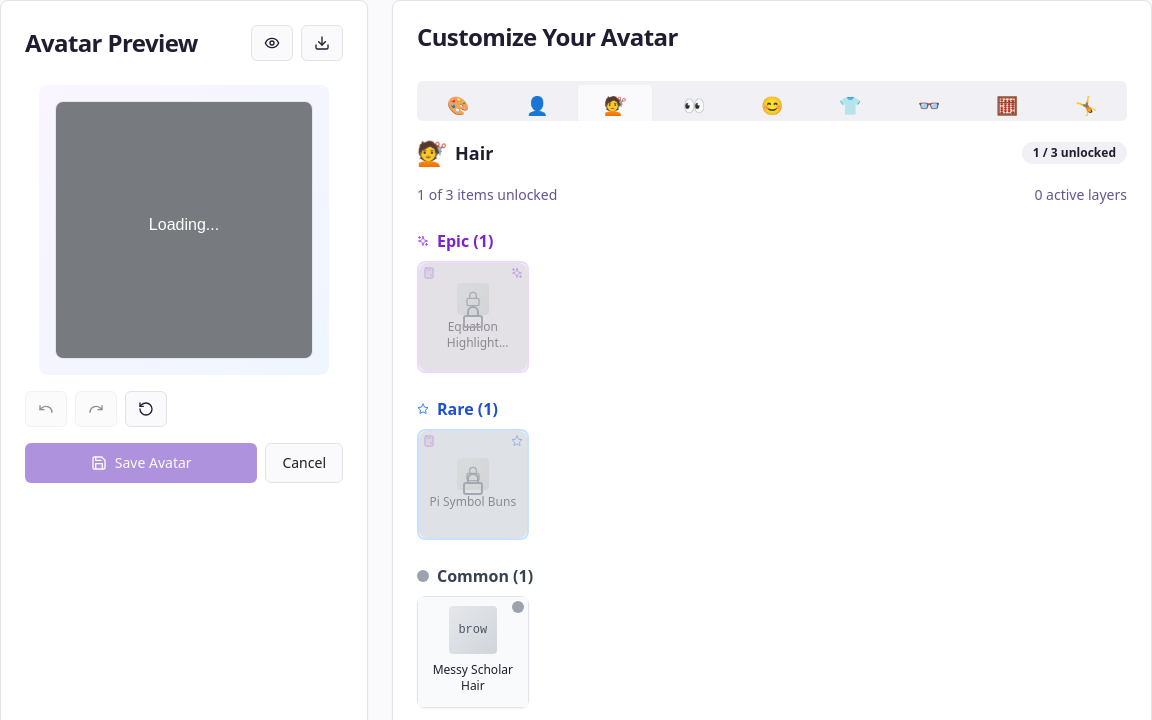
AvatarEditor › resets to default configuration
The width and height of the screenshot is (1152, 720).
Click the button titled "Reset to Default" at (146, 409), box top-left (125, 391), bottom-right (167, 427)
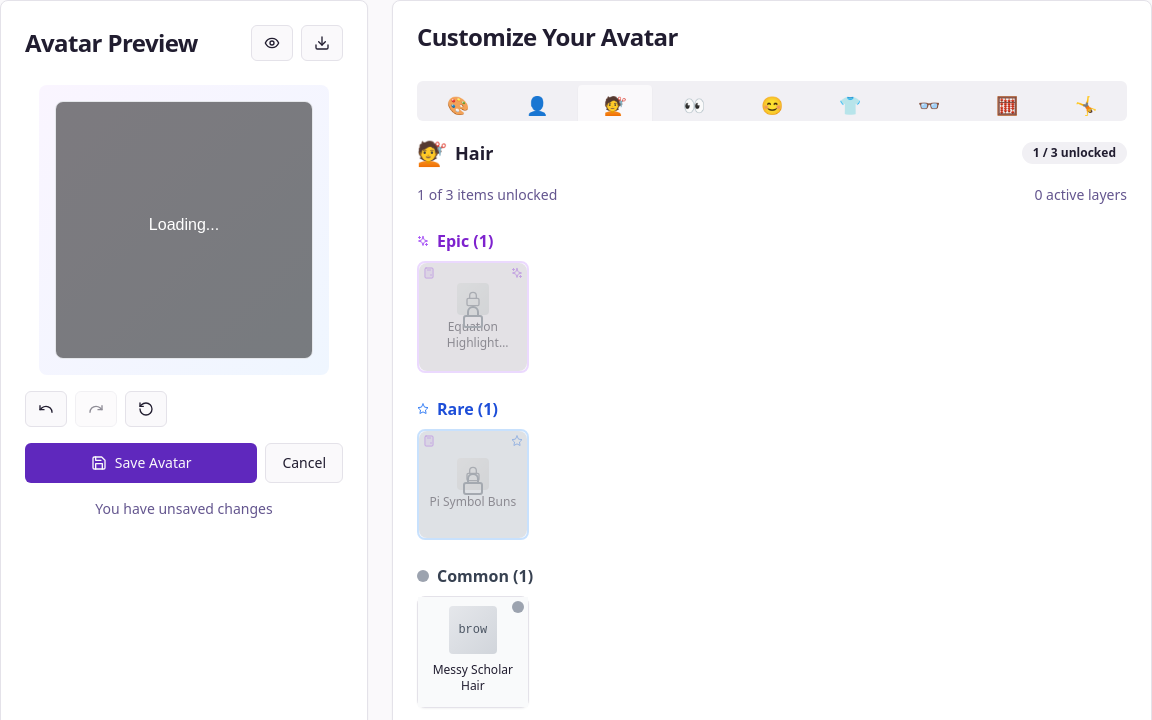
Expected: the button "Save Avatar" is enabled, top-left (25, 443), bottom-right (257, 483)
